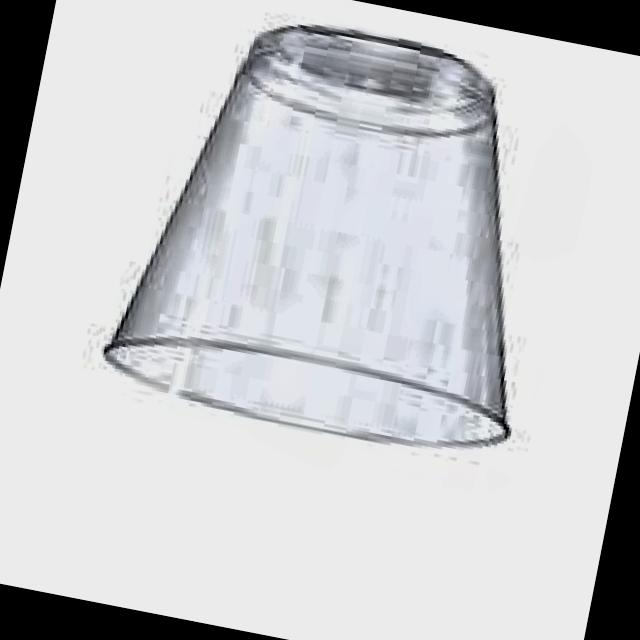plastic cup: (106, 28, 508, 445)
